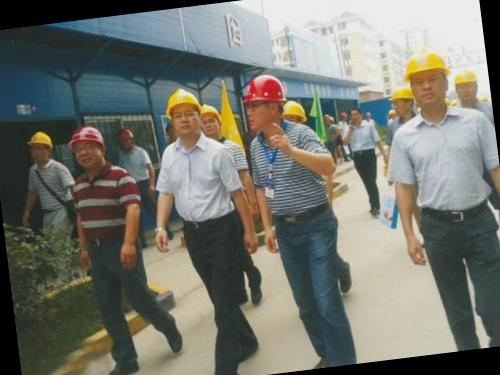no_helmet: (345, 106, 366, 126)
